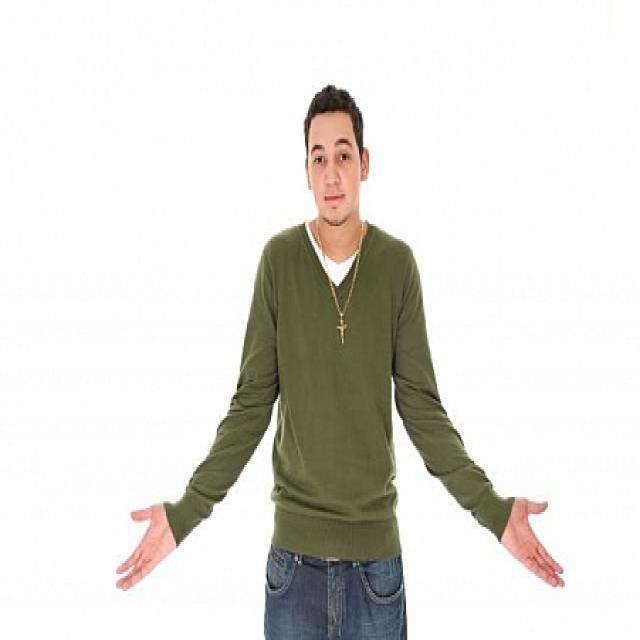Eyes: (312, 148, 354, 171)
